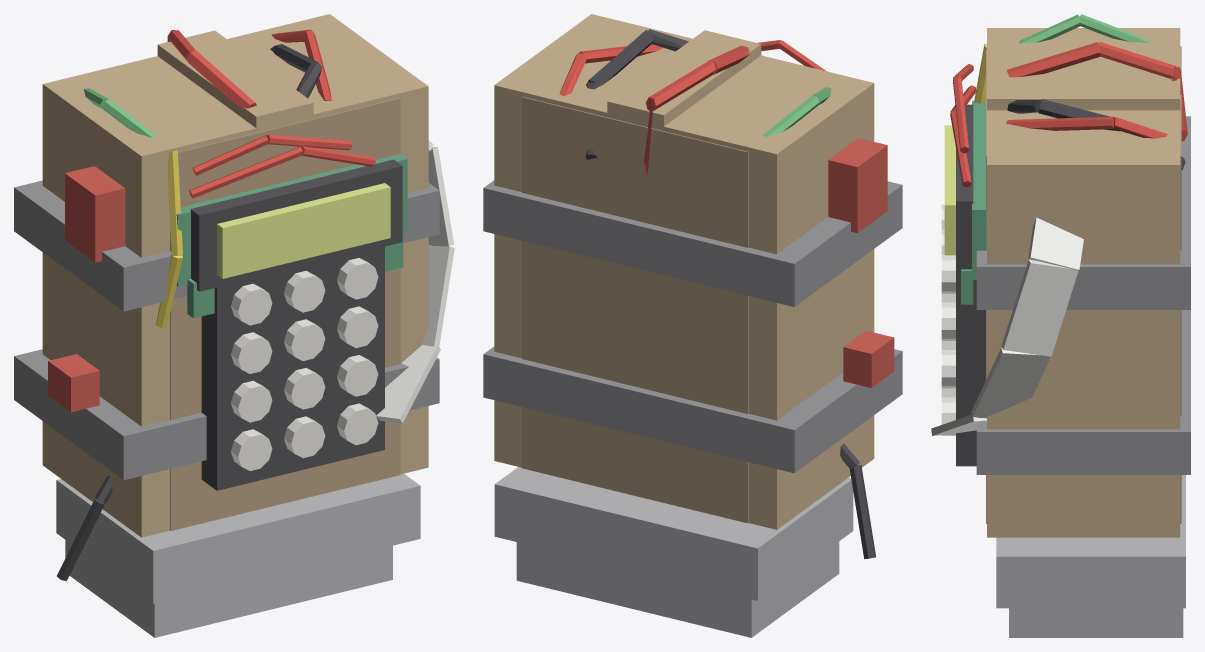
The model's file is 炸药包.glb.
The picture shows the model from 3 angles, left to right: view 1: azimuth 30°, elevation 25°; view 2: azimuth 150°, elevation 25°; view 3: azimuth 270°, elevation 25°; orthographic projection. The views are drawn at different scales.
Parts seen in each view (by area): view 1: Bundle_A, Battery, Keypad_Panel, Bundle_B, Tape, Keypad_Buttons, LCD, Red_Block, LCD_Frame, Ribbon, PCB, Jumper (+4 smaller); view 2: Bundle_B, Bundle_A, Tape, Battery, Red_Block, Wire_Black, Wire_Red, Wire_Green; view 3: Bundle_A, Tape, Battery, Ribbon, Wire_Red, Keypad_Panel, Keypad_Buttons, PCB, LCD_Frame, Jumper, LCD, Wire_Green (+3 smaller).
Boxes of the visible parts, x1=… form: Bundle_A: x1=42, y1=14, x2=428, y2=537; Battery: x1=56, y1=473, x2=420, y2=637; Keypad_Panel: x1=201, y1=239, x2=384, y2=490; Bundle_B: x1=170, y1=98, x2=400, y2=530; Tape: x1=14, y1=180, x2=439, y2=479; Keypad_Buttons: x1=231, y1=258, x2=378, y2=470; LCD: x1=217, y1=183, x2=390, y2=278; Red_Block: x1=48, y1=166, x2=125, y2=412; LCD_Frame: x1=190, y1=159, x2=402, y2=291; Ribbon: x1=376, y1=141, x2=454, y2=423; PCB: x1=170, y1=154, x2=407, y2=318; Jumper: x1=189, y1=135, x2=375, y2=198; Bundle_B: x1=522, y1=96, x2=748, y2=523; Bundle_A: x1=494, y1=14, x2=874, y2=529; Tape: x1=483, y1=180, x2=902, y2=473; Battery: x1=494, y1=467, x2=853, y2=637; Red_Block: x1=828, y1=138, x2=894, y2=387; Wire_Black: x1=585, y1=29, x2=875, y2=559; Wire_Red: x1=559, y1=44, x2=749, y2=175; Wire_Green: x1=763, y1=87, x2=831, y2=136; Bundle_A: x1=987, y1=28, x2=1180, y2=537; Tape: x1=976, y1=116, x2=1190, y2=474; Battery: x1=996, y1=475, x2=1185, y2=637; Ribbon: x1=931, y1=217, x2=1083, y2=435; Wire_Red: x1=1006, y1=41, x2=1187, y2=141; Keypad_Panel: x1=956, y1=276, x2=985, y2=466; Keypad_Buttons: x1=941, y1=204, x2=955, y2=435; PCB: x1=961, y1=100, x2=986, y2=304; LCD_Frame: x1=956, y1=104, x2=973, y2=275; Jumper: x1=950, y1=64, x2=976, y2=187; LCD: x1=944, y1=125, x2=955, y2=255; Wire_Green: x1=1019, y1=14, x2=1150, y2=43.
Size of the model in its own units: 0.332 by 0.4613 by 0.2084.
